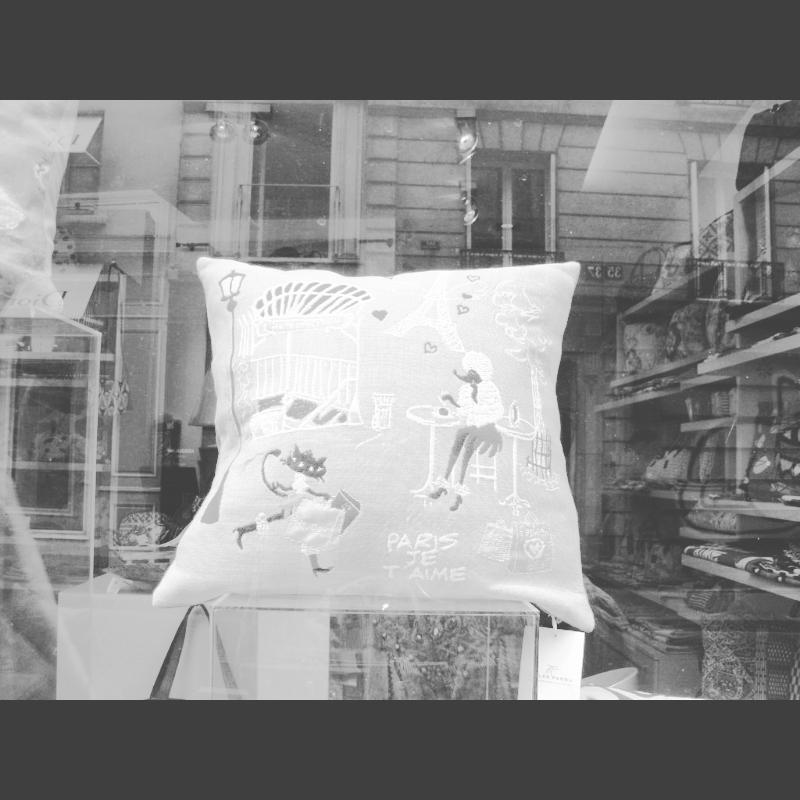pillow: (150, 257, 590, 631)
